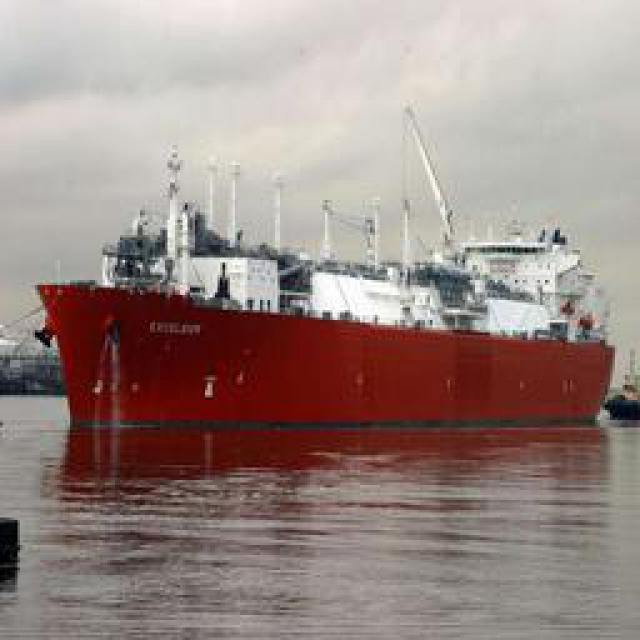Ship: (40, 110, 620, 455)
